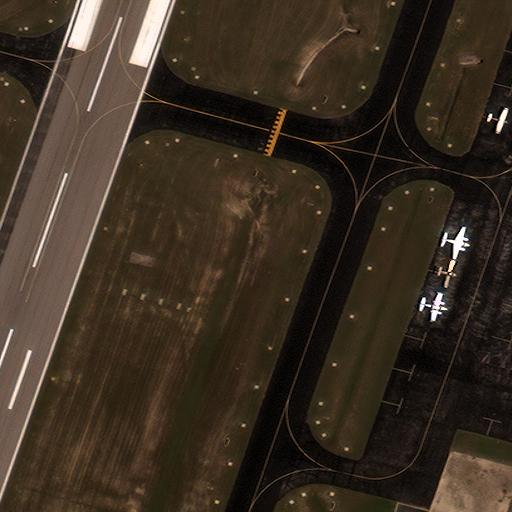Small Civil Transport: (441, 227, 470, 259), (419, 293, 448, 322), (434, 261, 456, 289), (487, 108, 508, 133)
